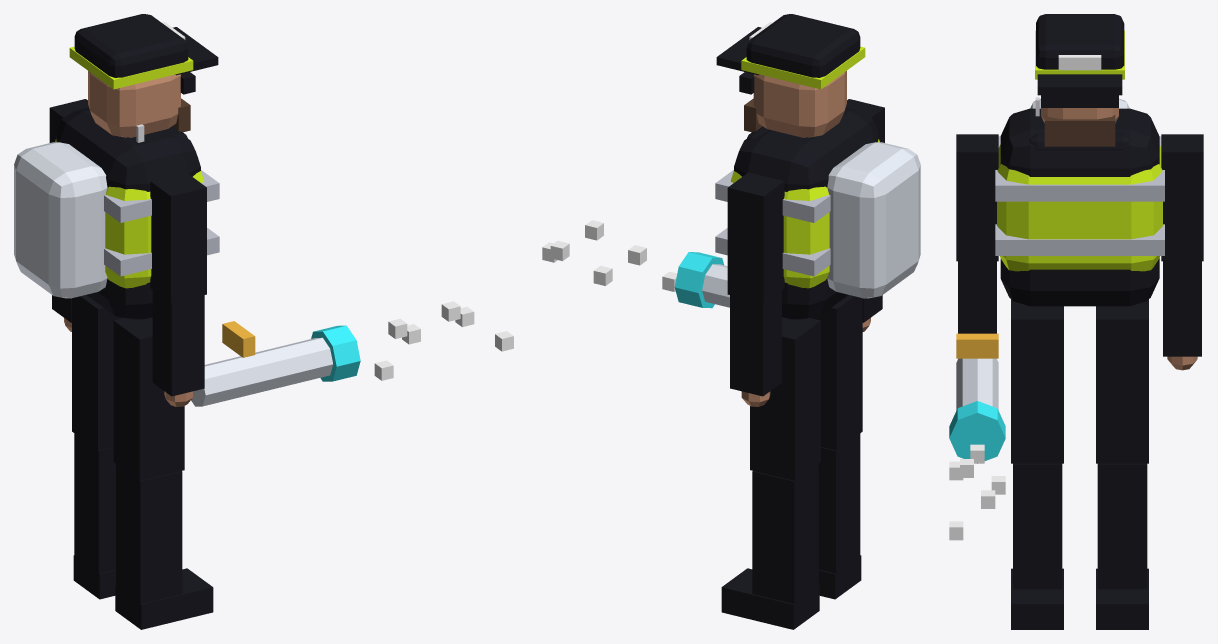
The model's file is agent_kleber_neigeur.glb.
3 views of the same model, side by side, from view 1: azimuth 30°, elevation 25°; view 2: azimuth 150°, elevation 25°; view 3: azimuth 270°, elevation 25° (orthographic).
Visible parts, largest first — view 1: p_rbox.2285, p_box.8744, p_box.8745, p_rbox.2280, p_box.8758, p_box.8747, p_cyl.1717, p_box.8748, p_rbox.2283, p_box.8759, p_rbox.2282, p_rbox.2281 (+8 smaller); view 2: p_rbox.2285, p_box.8747, p_box.8748, p_rbox.2280, p_box.8767, p_box.8744, p_box.8745, p_rbox.2283, p_box.8768, p_rbox.2282, p_box.8749, p_rbox.2281 (+8 smaller); view 3: p_rbox.2280, p_rbox.2281, p_box.8747, p_box.8744, p_box.8748, p_box.8745, p_box.8758, p_box.8767, p_rbox.2283, p_box.8768, p_box.8751, p_box.8750 (+13 smaller).
Boxes of the visible parts, x1,y1,x2,y2 form: p_rbox.2285: (14, 142, 107, 298); p_box.8744: (113, 317, 184, 480); p_box.8745: (116, 464, 182, 613); p_rbox.2280: (56, 107, 200, 319); p_box.8758: (150, 172, 206, 303); p_box.8747: (72, 295, 123, 450); p_cyl.1717: (191, 337, 333, 406); p_box.8748: (74, 433, 115, 580); p_rbox.2283: (74, 14, 188, 77); p_box.8759: (152, 290, 204, 396); p_rbox.2282: (88, 71, 180, 137); p_rbox.2281: (55, 139, 204, 288); p_rbox.2285: (827, 142, 920, 298); p_box.8747: (750, 317, 820, 480); p_box.8748: (752, 464, 818, 613); p_rbox.2280: (734, 107, 878, 319); p_box.8767: (727, 172, 784, 303); p_box.8744: (811, 295, 862, 450); p_box.8745: (818, 433, 860, 582); p_rbox.2283: (746, 14, 860, 77); p_box.8768: (730, 290, 781, 396); p_rbox.2282: (753, 71, 846, 137); p_box.8749: (721, 568, 819, 629); p_rbox.2281: (730, 139, 879, 288); p_rbox.2280: (1000, 108, 1159, 306); p_rbox.2281: (997, 144, 1162, 271); p_box.8747: (1096, 299, 1148, 463); p_box.8744: (1011, 299, 1063, 463); p_box.8748: (1097, 463, 1147, 589); p_box.8745: (1013, 463, 1062, 589); p_box.8758: (956, 134, 998, 261); p_box.8767: (1161, 134, 1203, 261); p_rbox.2283: (1036, 14, 1124, 69); p_box.8768: (1163, 261, 1201, 356); p_box.8751: (995, 136, 1164, 201); p_box.8750: (995, 224, 1164, 255).
Size of the model in its own units: 1.39 by 1.8 by 0.72.
